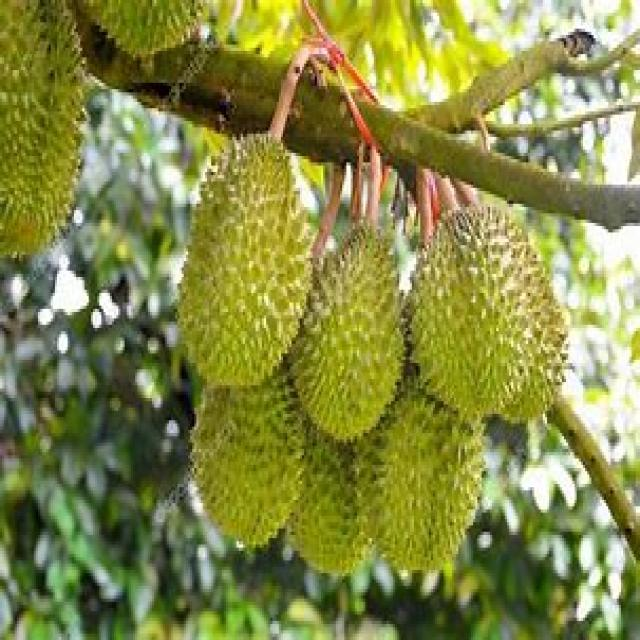immature: (410, 202, 577, 426), (173, 132, 312, 390), (285, 221, 405, 443), (353, 381, 483, 577), (187, 379, 303, 539)
